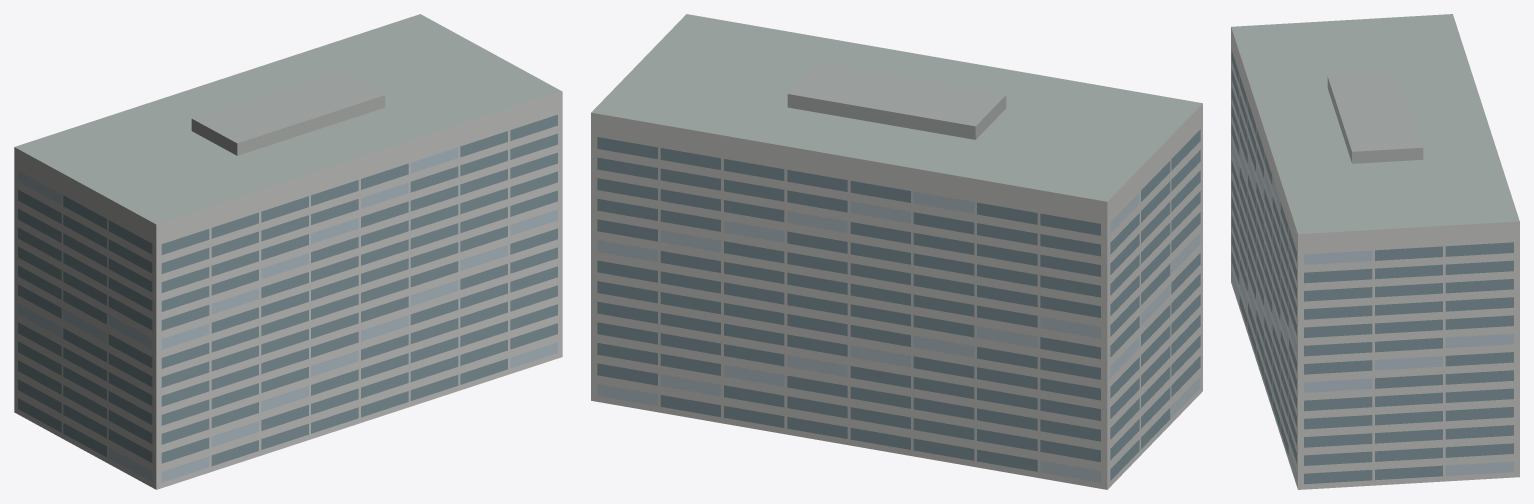
The model's file is apt-a13707006.glb.
3 views of the same model, side by side, from view 1: azimuth 30°, elevation 25°; view 2: azimuth 150°, elevation 25°; view 3: azimuth 270°, elevation 25° (orthographic). The views are drawn at different scales.
Parts seen in each view (by area): view 1: apt-a13707006; view 2: apt-a13707006; view 3: apt-a13707006.
Boxes of the visible parts, x1,y1,x2,y2 form: apt-a13707006: (14,14,562,489); apt-a13707006: (591,14,1202,489); apt-a13707006: (1231,14,1519,489).
Size of the model in its own units: 70.5 by 40 by 39.07.
